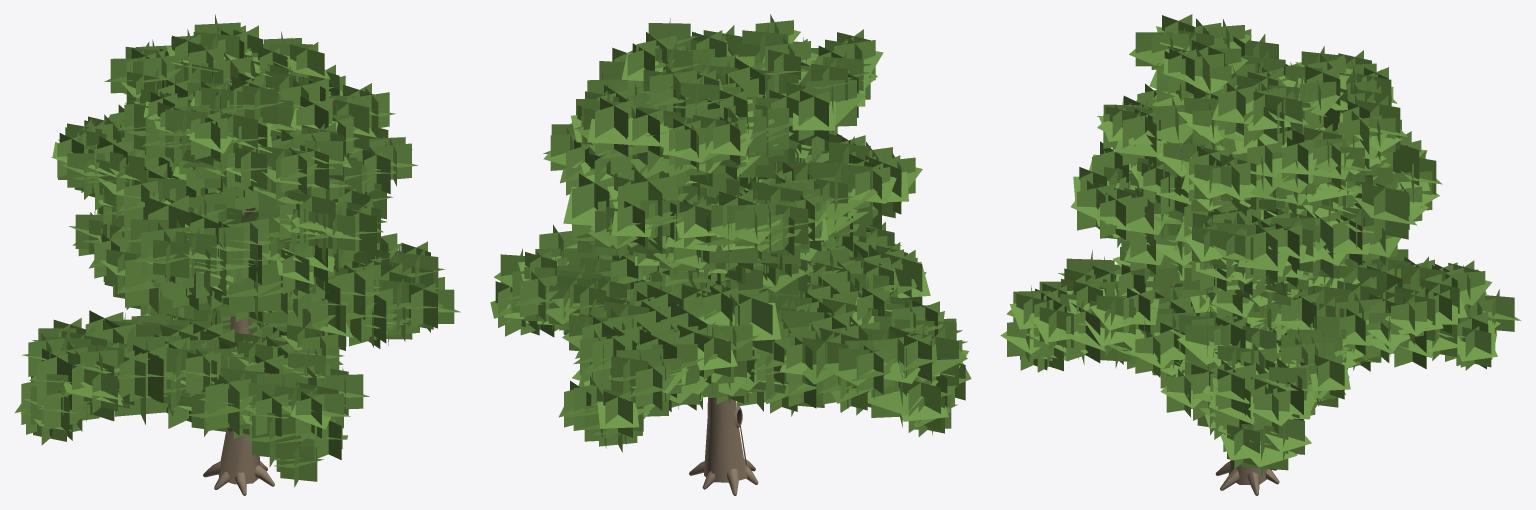
The model's file is pommier_3_f3_jeu.glb.
3 renders of one model, left to right at view 1: azimuth 30°, elevation 25°; view 2: azimuth 150°, elevation 25°; view 3: azimuth 270°, elevation 25°, orthographic. The views are drawn at different scales.
Parts seen in each view (by area): view 1: Pommier_T3_f3_Leger; view 2: Pommier_T3_f3_Leger; view 3: Pommier_T3_f3_Leger.
Part boxes in pixels (x1,y1,x2,y2): Pommier_T3_f3_Leger: (15, 14, 460, 495); Pommier_T3_f3_Leger: (490, 14, 971, 495); Pommier_T3_f3_Leger: (1000, 14, 1521, 495).
Size of the model in its own units: 8.05 by 7.37 by 8.27.
